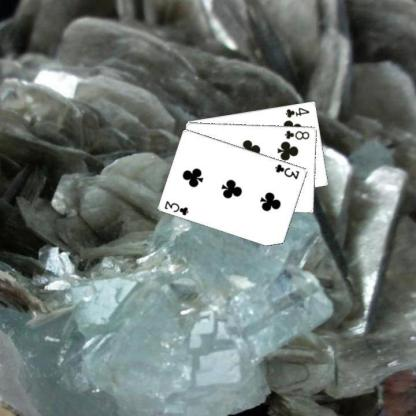3C: (273, 161, 301, 180), (162, 198, 190, 217)
4C: (283, 104, 311, 118)
8C: (282, 128, 311, 140)
